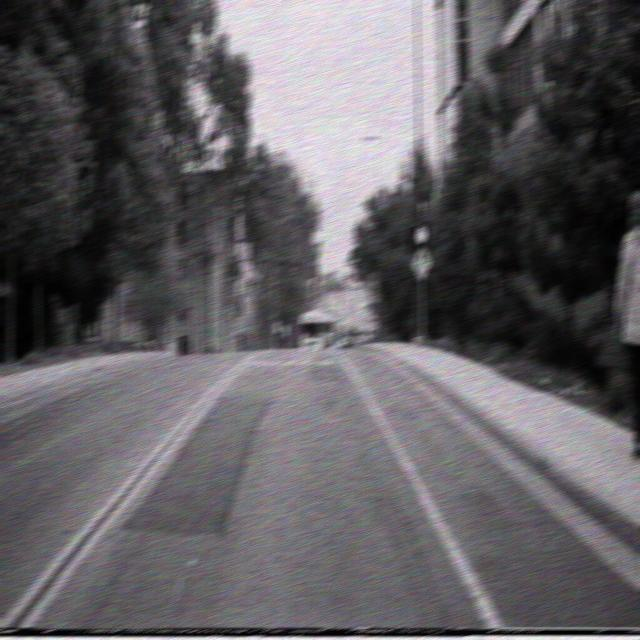pedestrianCrossing: (411, 243, 432, 281)
